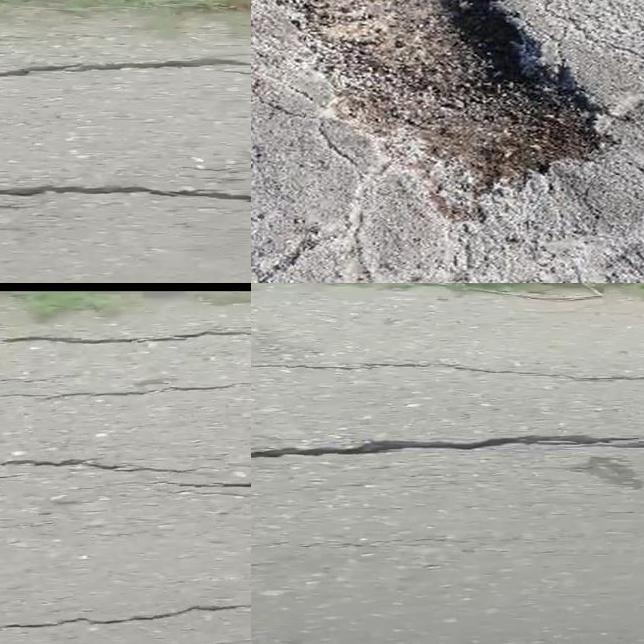Lubang: (290, 0, 601, 208)
Melintang: (251, 423, 644, 470), (0, 443, 251, 512), (0, 172, 251, 222)
